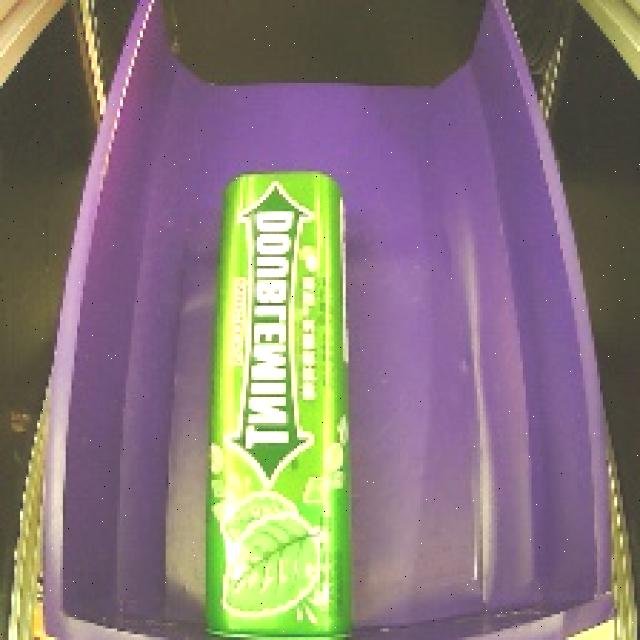metal: (182, 152, 376, 640)
